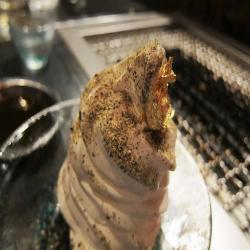icecream: (54, 39, 171, 250)
